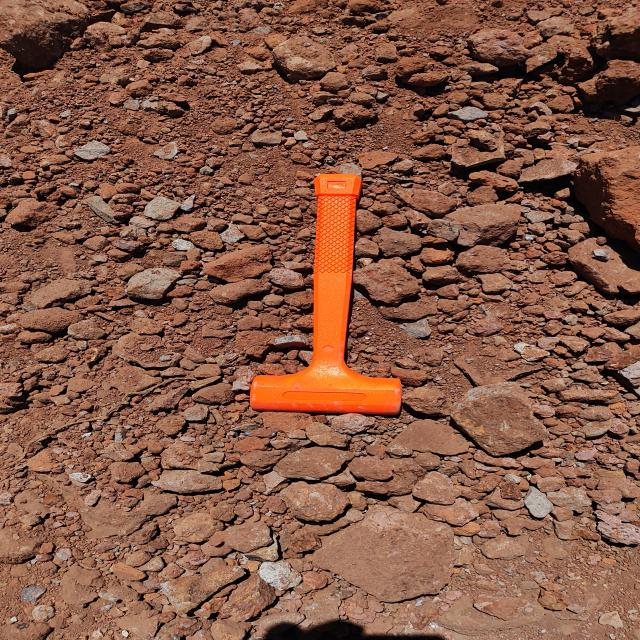Orange_hammer: (248, 172, 402, 415)
rock: (306, 508, 469, 599), (437, 374, 560, 461), (461, 27, 593, 98), (562, 150, 640, 258), (0, 0, 98, 58), (10, 306, 85, 338)
